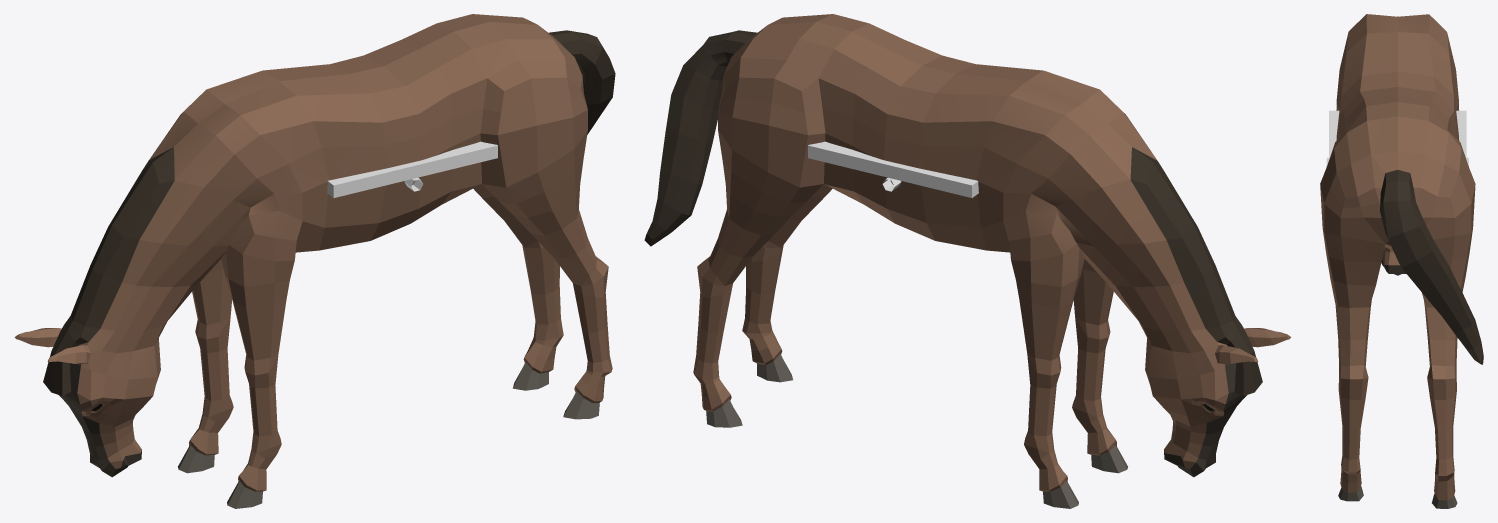
The model's file is horse_0.glb.
The picture shows the model from 3 angles, left to right: view 1: azimuth 30°, elevation 25°; view 2: azimuth 150°, elevation 25°; view 3: azimuth 270°, elevation 25°; orthographic projection. The views are drawn at different scales.
Parts seen in each view (by area): view 1: horse_0; view 2: horse_0; view 3: horse_0.
Part boxes in pixels (x1,y1,x2,y2): horse_0: [14, 14, 615, 508]; horse_0: [644, 14, 1291, 508]; horse_0: [1320, 14, 1483, 508].
Bounding box in the file's own units: 2.43 × 1.57 × 0.6533.
